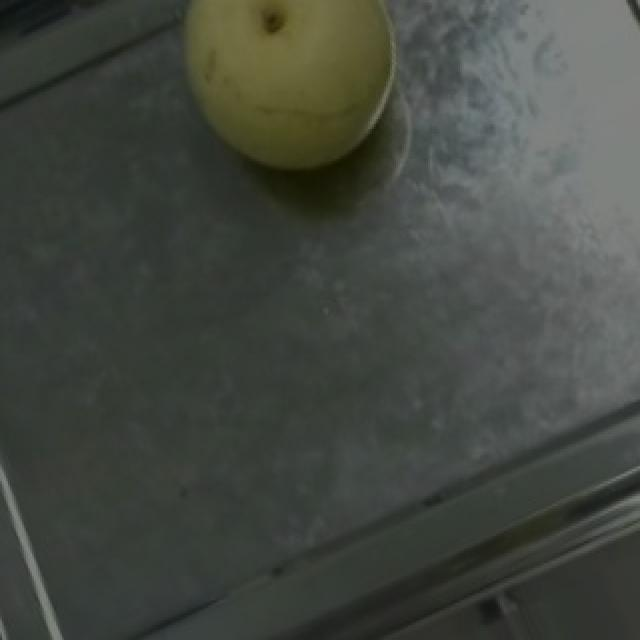Fruit: (142, 0, 438, 216)
